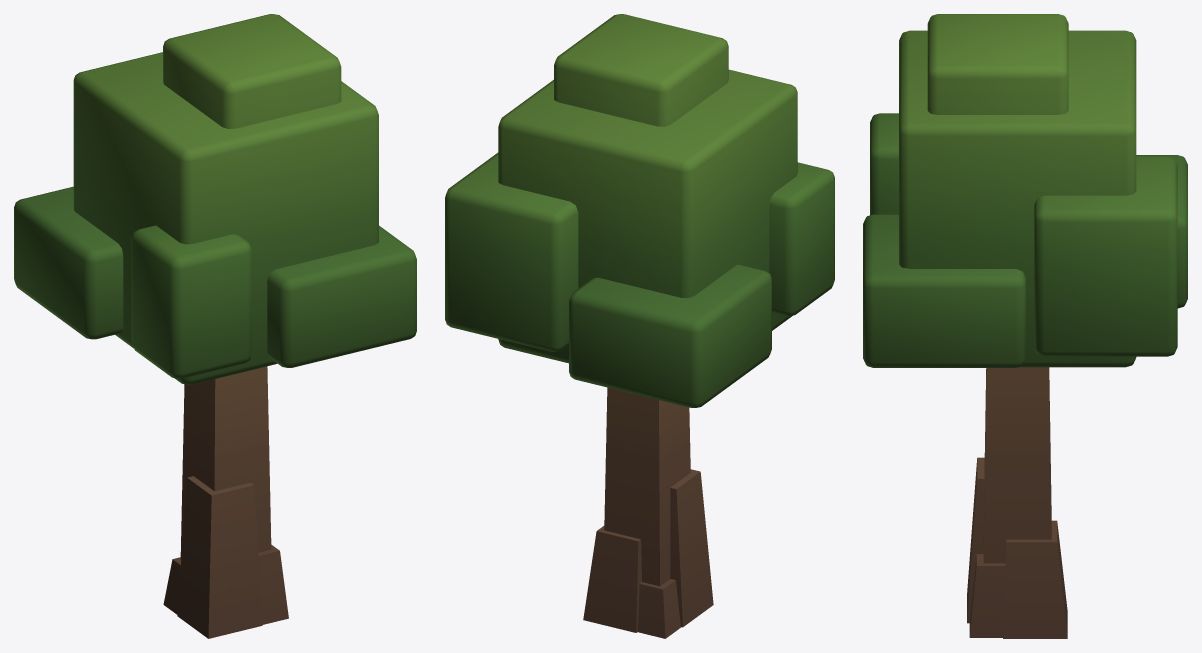
Rendered from tree1.fbx.
3 views of the same model, side by side, from view 1: azimuth 30°, elevation 25°; view 2: azimuth 150°, elevation 25°; view 3: azimuth 270°, elevation 25° (orthographic). The views are drawn at different scales.
Visible parts, largest first — view 1: tree1.001; view 2: tree1.001; view 3: tree1.001.
Part boxes in pixels (x1,y1,x2,y2): tree1.001: [14, 14, 416, 638]; tree1.001: [445, 14, 834, 638]; tree1.001: [863, 14, 1187, 638].
Bounding box in the file's own units: 321 × 326 × 650.
